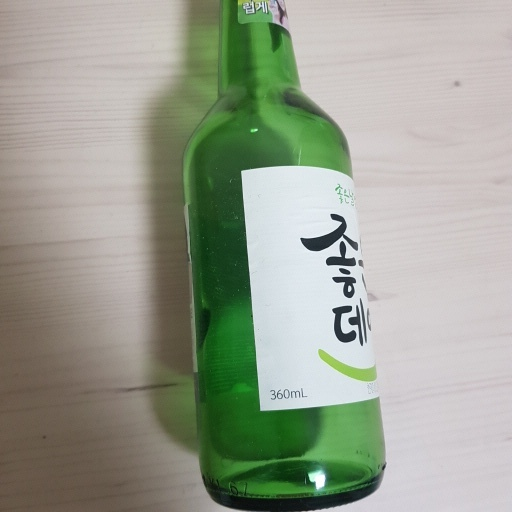Glass_0: (177, 1, 398, 511)
